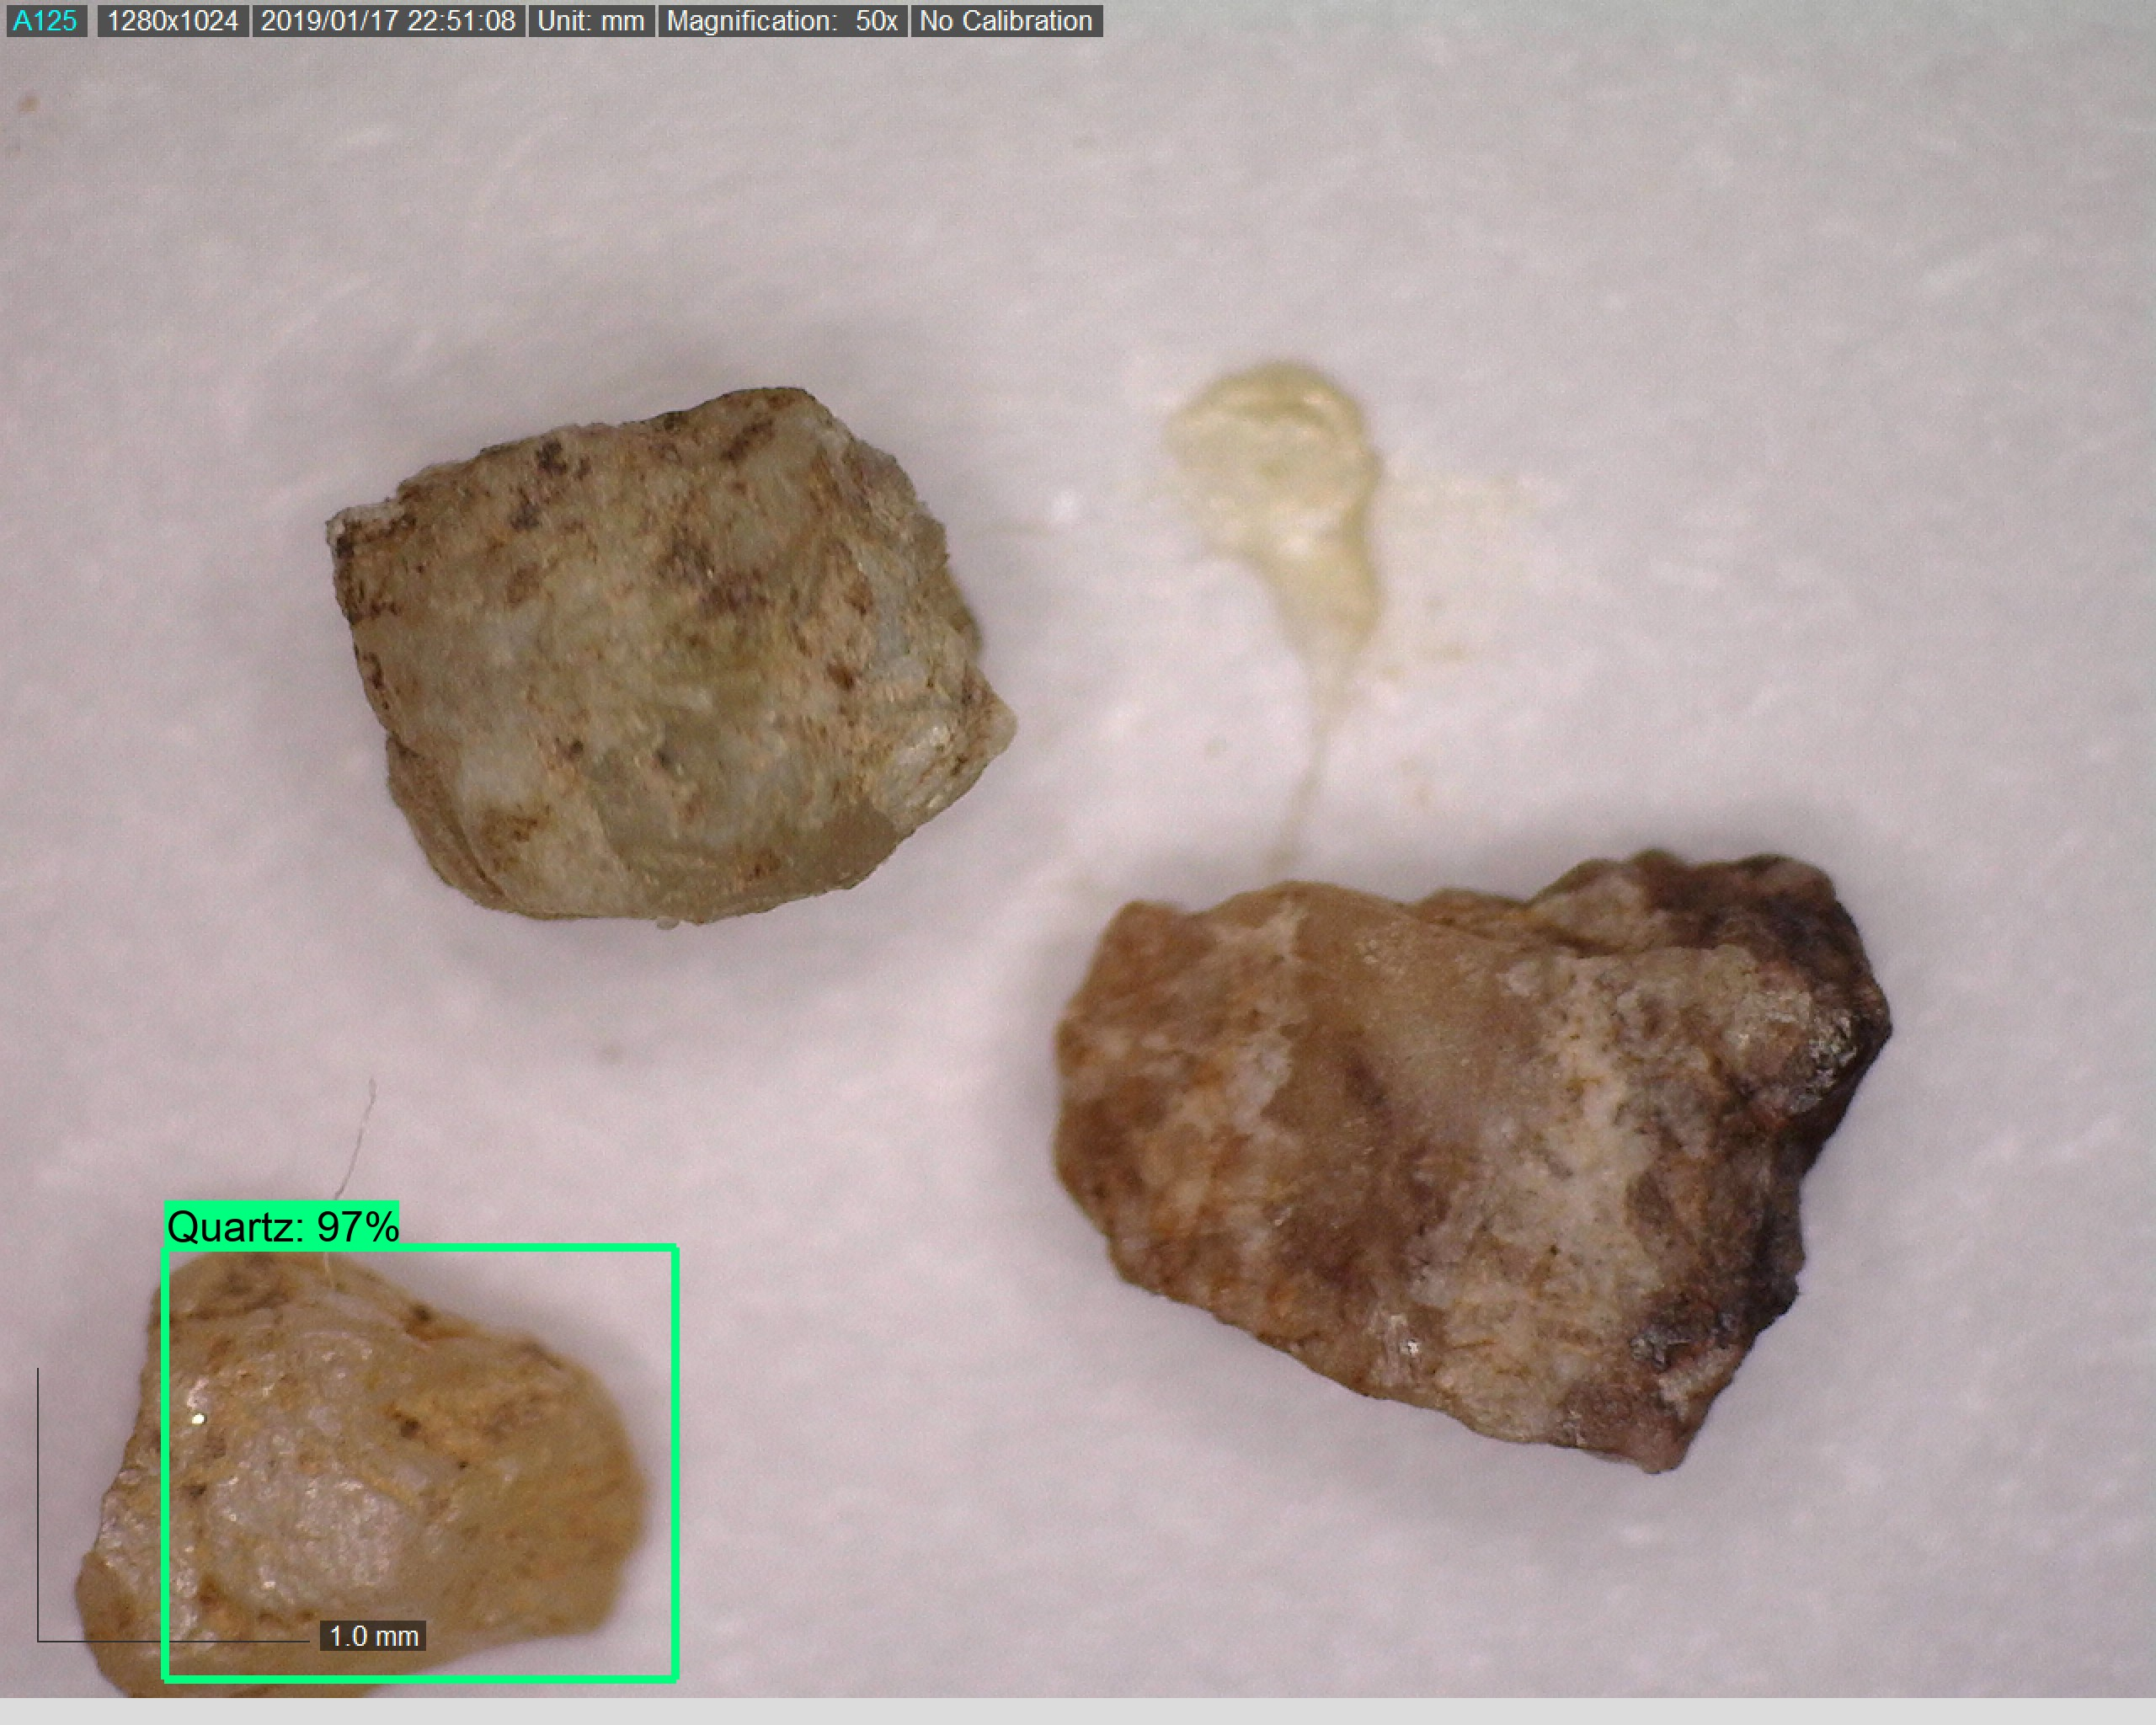Quartz: (70, 1227, 651, 1693)
